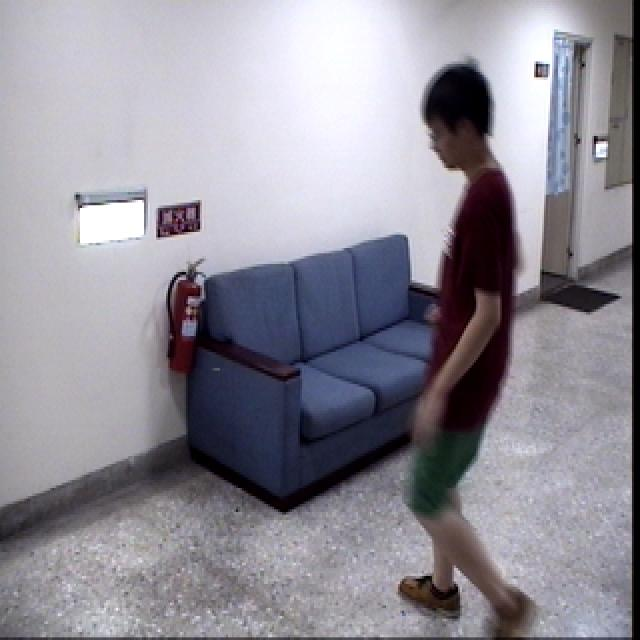stand: (389, 47, 552, 640)
